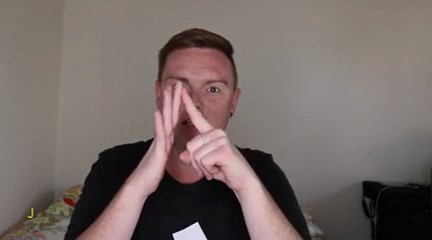J: (136, 79, 248, 200)
